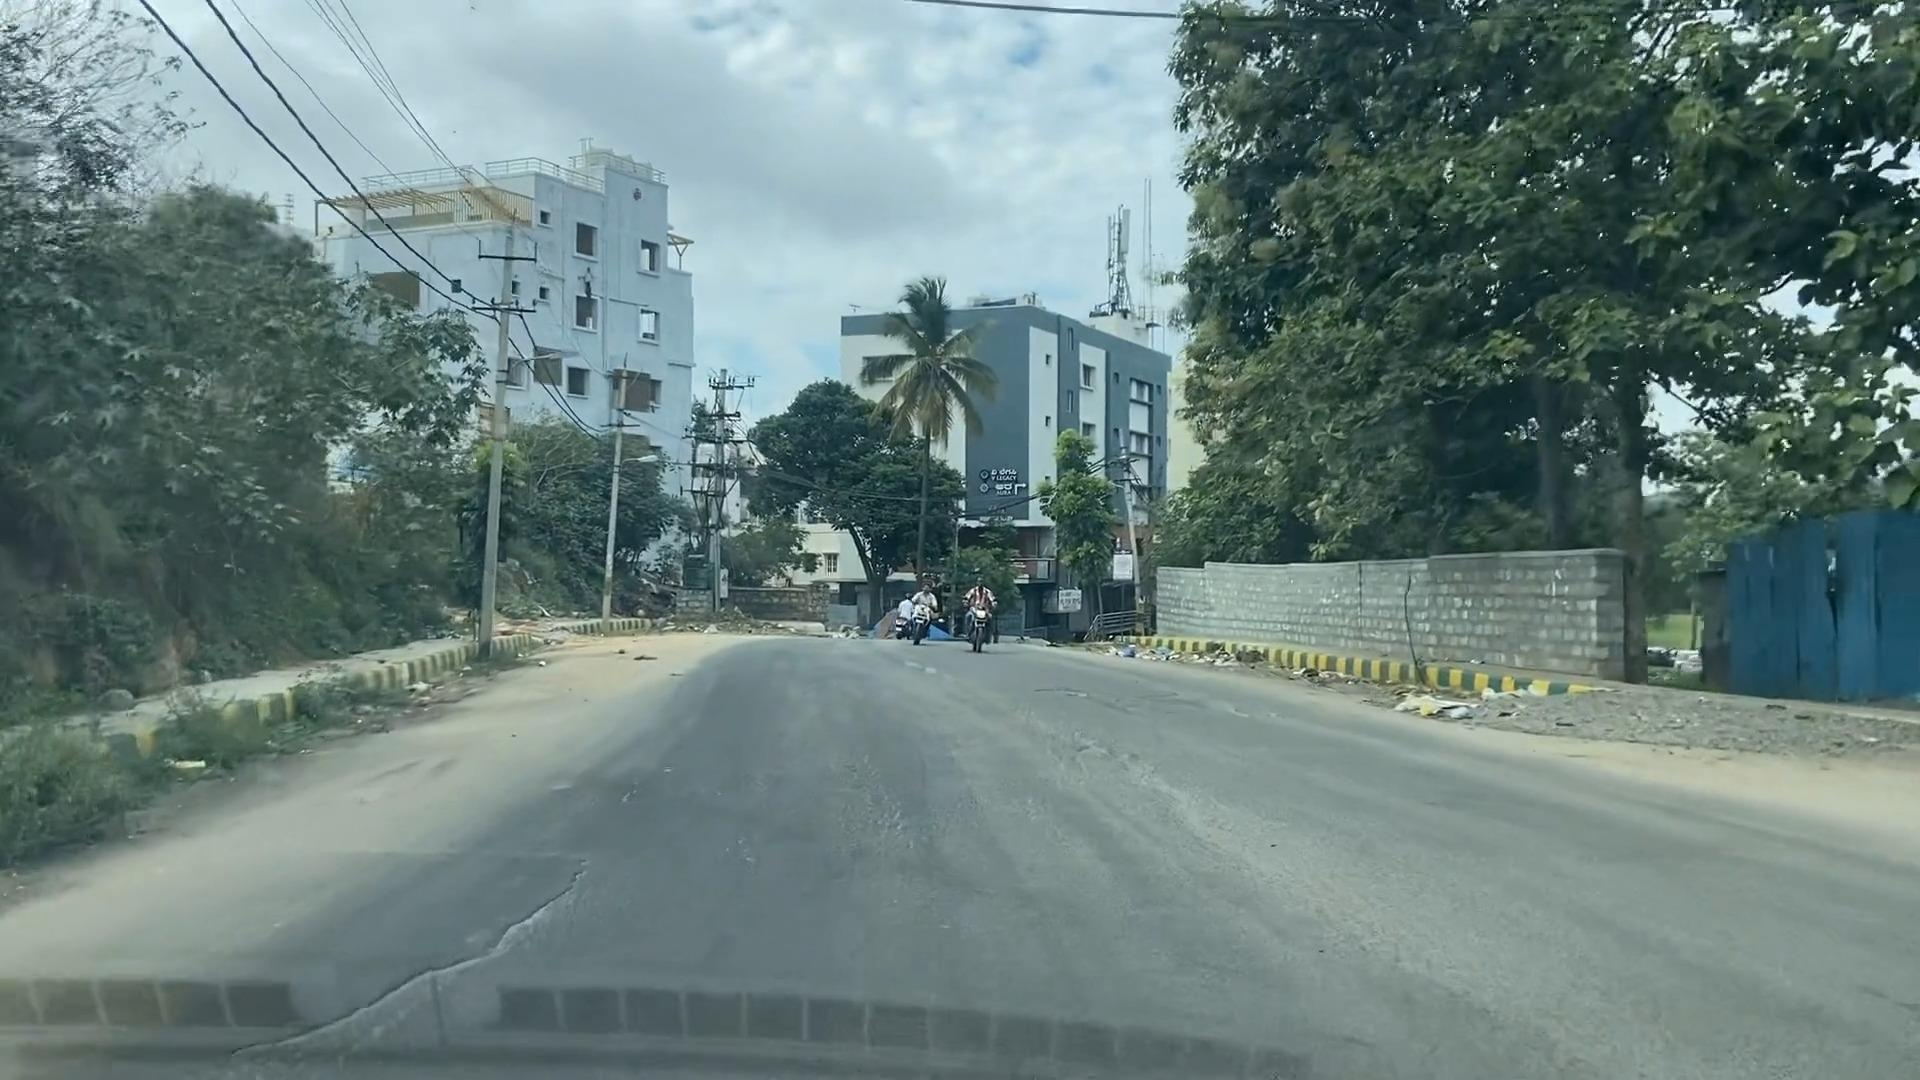RoadDamages: (211, 840, 686, 1077), (1026, 673, 1244, 753)
